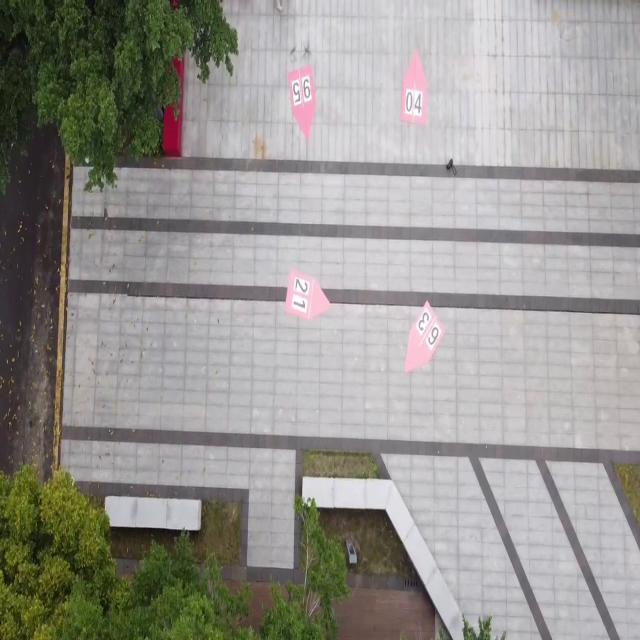-sign-: (404, 300, 447, 375), (284, 268, 332, 320), (288, 62, 317, 140), (401, 49, 428, 126)
